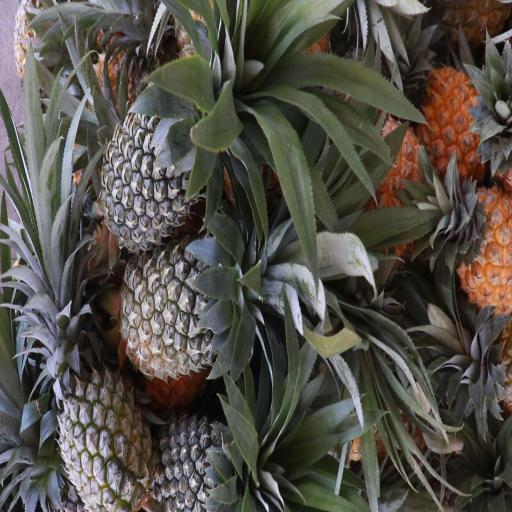------------------------------: (121, 248, 245, 379), (59, 360, 152, 512)
Pineapple - v8 v1: (421, 69, 502, 179), (448, 184, 512, 318)
